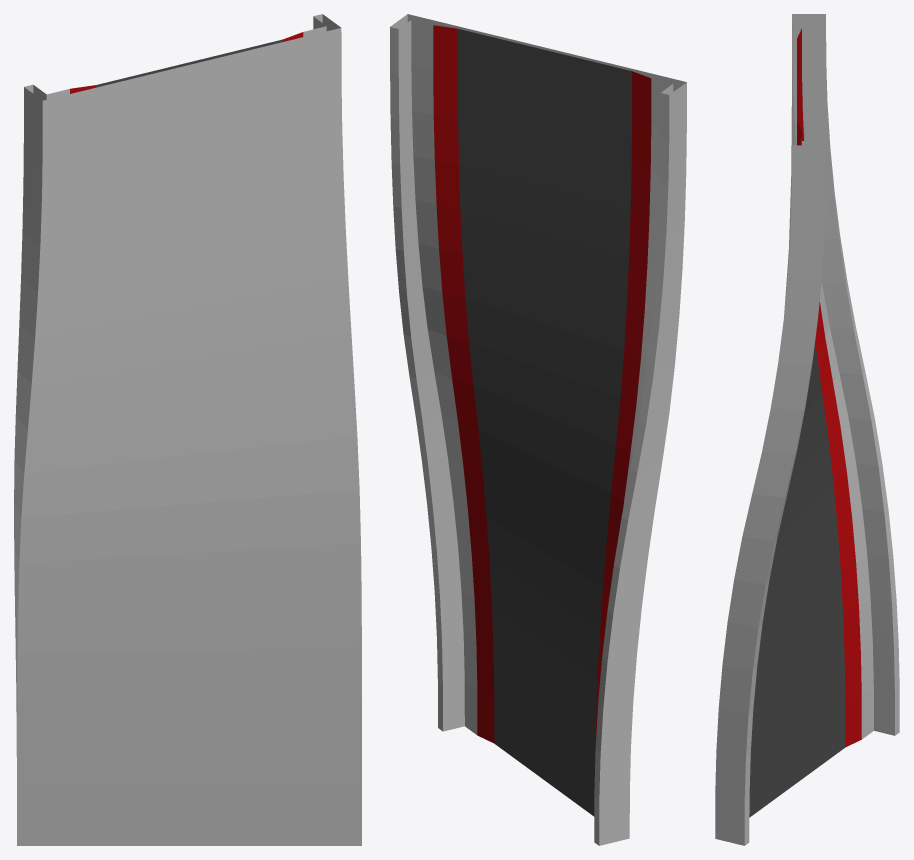
File: Transition_Right_Pitch2.fbx
3 views of the same model, side by side, from view 1: azimuth 30°, elevation 25°; view 2: azimuth 150°, elevation 25°; view 3: azimuth 270°, elevation 25° (orthographic). The views are drawn at different scales.
Parts seen in each view (by area): view 1: Transition_Right_Pitch2; view 2: Transition_Right_Pitch2; view 3: Transition_Right_Pitch2.
Part boxes in pixels (x1,y1,x2,y2): Transition_Right_Pitch2: [14, 14, 361, 845]; Transition_Right_Pitch2: [390, 14, 686, 845]; Transition_Right_Pitch2: [715, 14, 899, 845].
Size of the model in its own units: 1291 by 3200 by 761.
